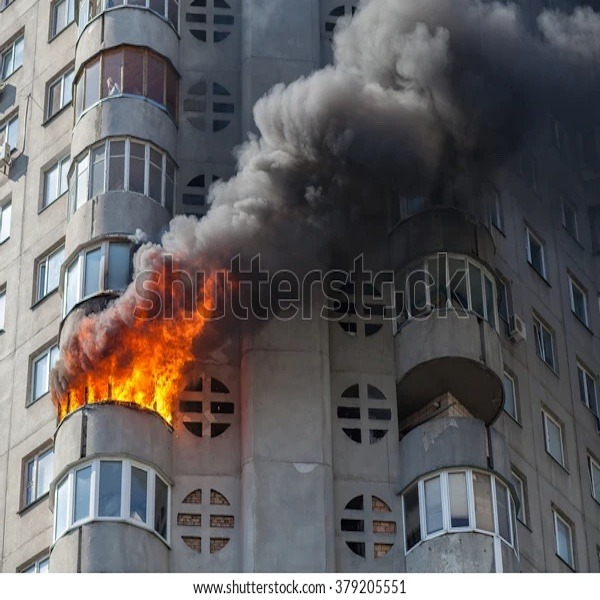fire: (131, 249, 219, 403), (174, 222, 271, 319), (60, 339, 183, 413)
